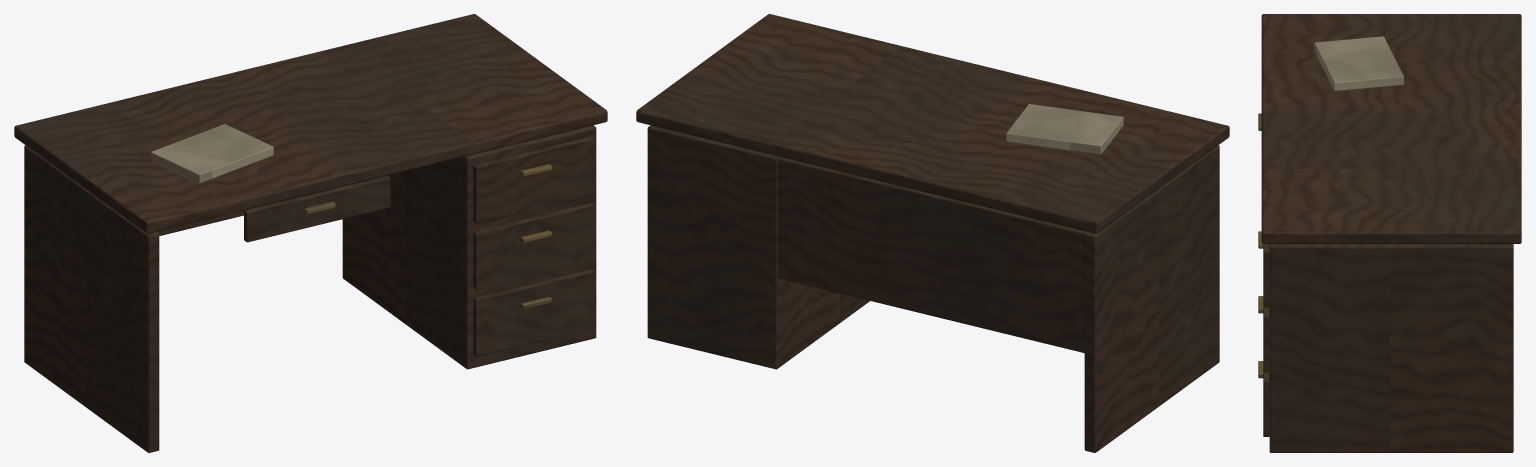
The model's file is F15_office_desk.glb.
3 renders of one model, left to right at view 1: azimuth 30°, elevation 25°; view 2: azimuth 150°, elevation 25°; view 3: azimuth 270°, elevation 25°, orthographic. The views are drawn at different scales.
Visible parts, largest first — view 1: F15_office_desk; view 2: F15_office_desk; view 3: F15_office_desk.
Boxes of the visible parts, x1=… form: F15_office_desk: x1=14, y1=14, x2=607, y2=452; F15_office_desk: x1=636, y1=14, x2=1229, y2=452; F15_office_desk: x1=1258, y1=14, x2=1521, y2=452.
Bounding box in the file's own units: 1.6 × 0.81 × 0.81.
Materials: 3 (3 with a texture image).
